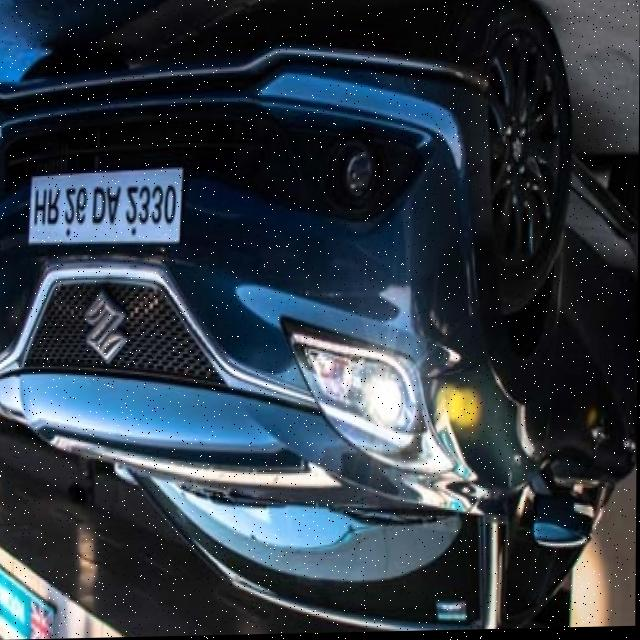plate: (31, 169, 181, 246)
